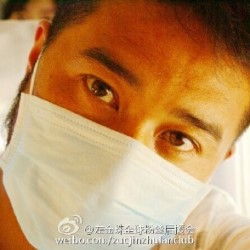mask: (10, 78, 210, 250)
